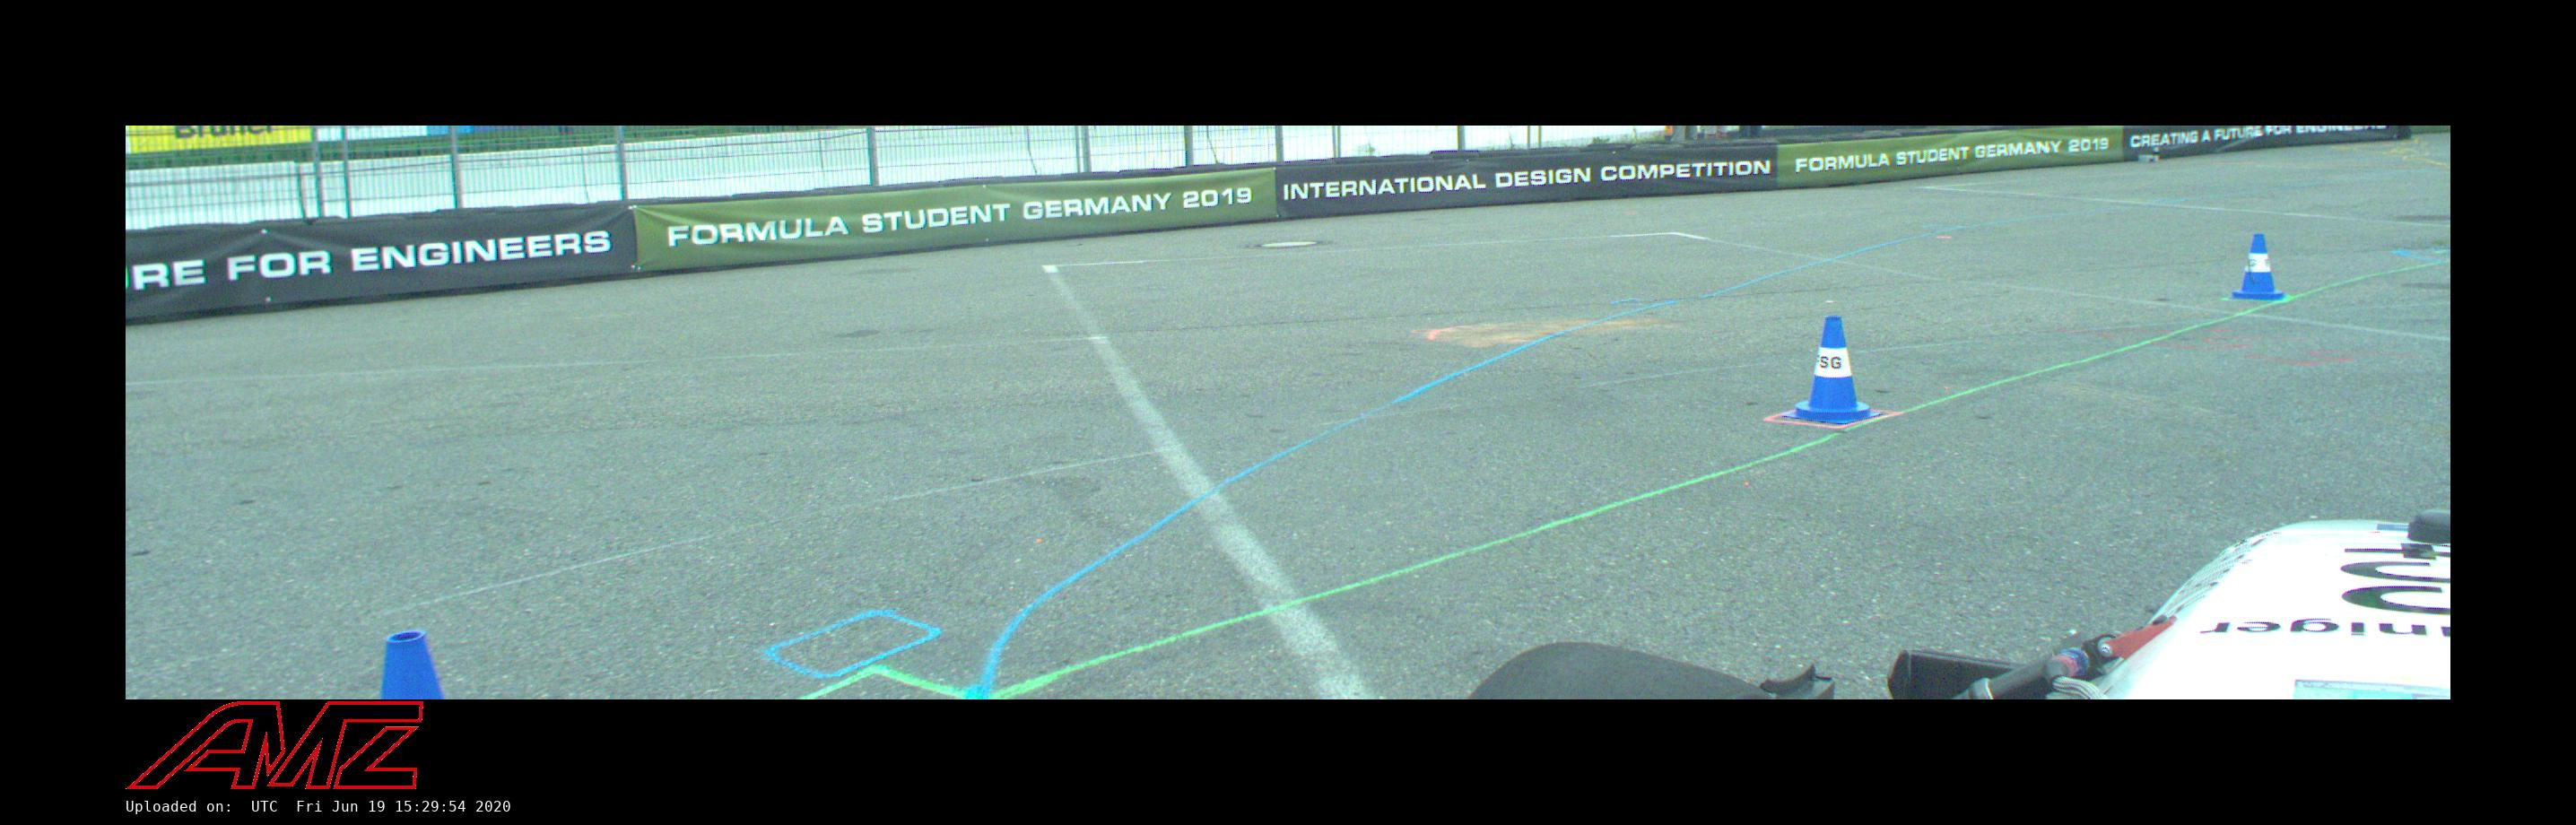blue_cone: (1784, 317, 1886, 426), (2229, 233, 2288, 301)
